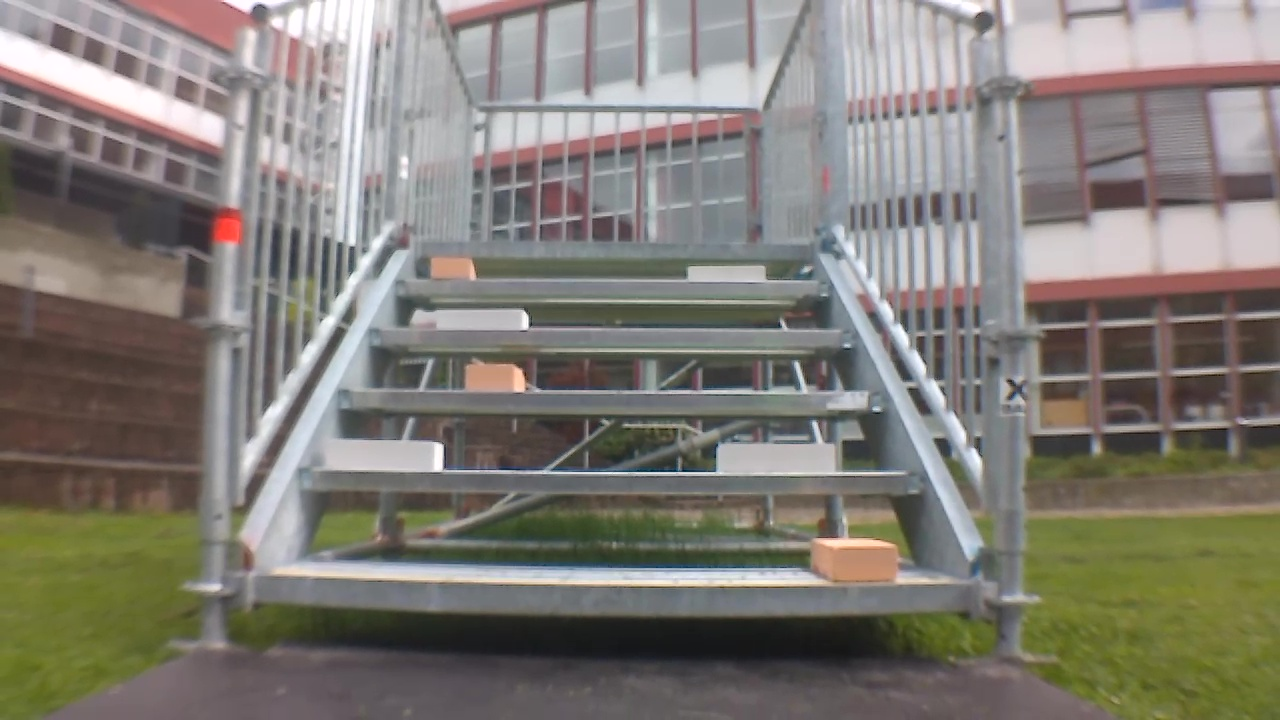brick: (325, 439, 443, 471), (811, 538, 896, 581), (717, 445, 832, 472), (437, 310, 527, 330), (465, 364, 523, 391), (689, 265, 764, 282), (431, 258, 474, 277)
edge: (251, 575, 971, 616), (298, 469, 930, 494), (338, 391, 884, 414), (371, 327, 856, 347), (394, 279, 832, 297), (417, 240, 814, 259)
stairs: (187, 1, 1040, 665)
steps: (245, 237, 984, 631)
